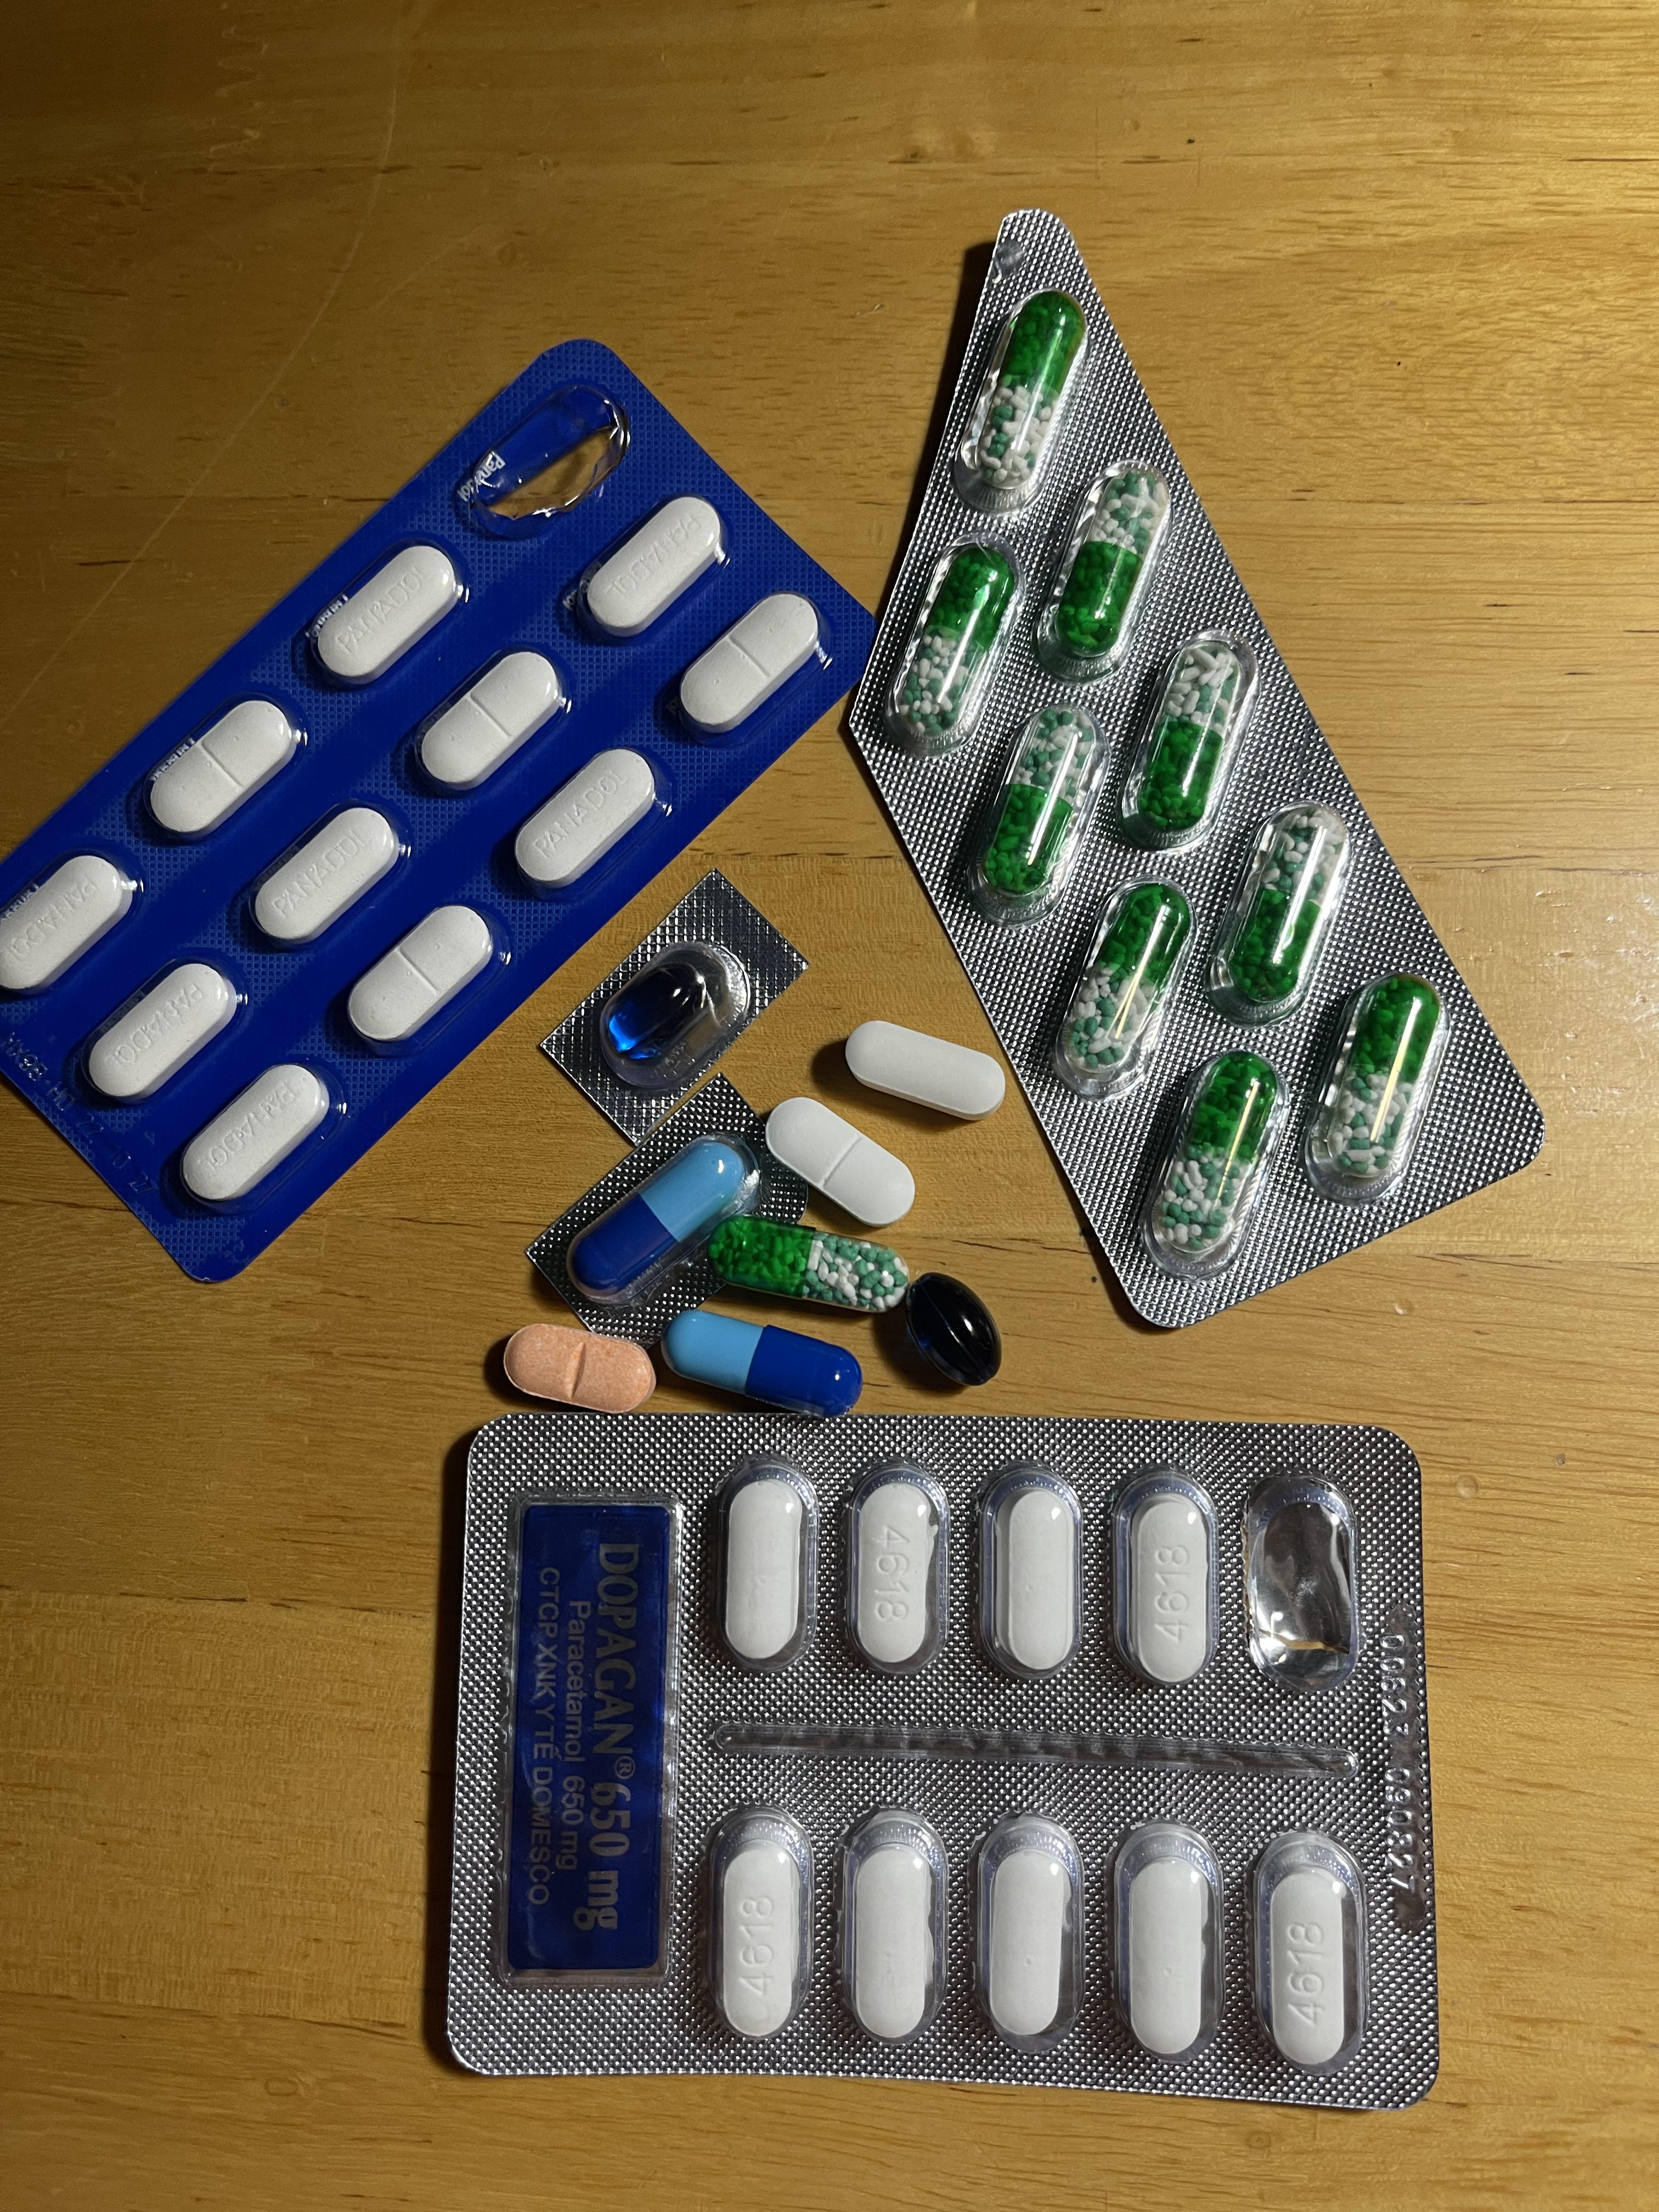Lincomyxin_500mg: (903, 1271, 1004, 1386), (603, 960, 718, 1061)
Loratadine_10mg: (500, 1320, 659, 1411)
Paracetamol_350mg: (673, 589, 828, 742), (307, 542, 462, 691), (577, 491, 727, 643), (411, 651, 566, 798), (84, 958, 239, 1104), (511, 745, 662, 894), (179, 1062, 333, 1207), (345, 902, 498, 1047), (146, 697, 300, 840), (249, 801, 403, 942), (763, 1094, 915, 1228), (0, 852, 138, 998)
Paracetamol_500mg: (1127, 1851, 1209, 2055), (843, 1019, 1004, 1120), (1267, 1874, 1351, 2067), (854, 1843, 936, 2040), (990, 1843, 1070, 2041), (725, 1480, 807, 1662), (720, 1850, 798, 2036), (856, 1486, 934, 1665), (1002, 1487, 1077, 1670), (1134, 1501, 1209, 1683)
Paracetamol_650mg: (1159, 1055, 1277, 1256), (1324, 977, 1439, 1183), (901, 547, 1018, 740), (971, 298, 1082, 498), (1054, 467, 1161, 660), (1065, 892, 1182, 1066), (1134, 653, 1244, 838), (704, 1214, 904, 1313), (981, 718, 1094, 892), (1223, 822, 1331, 995)
pill: (565, 1130, 762, 1305), (666, 1308, 859, 1416)
